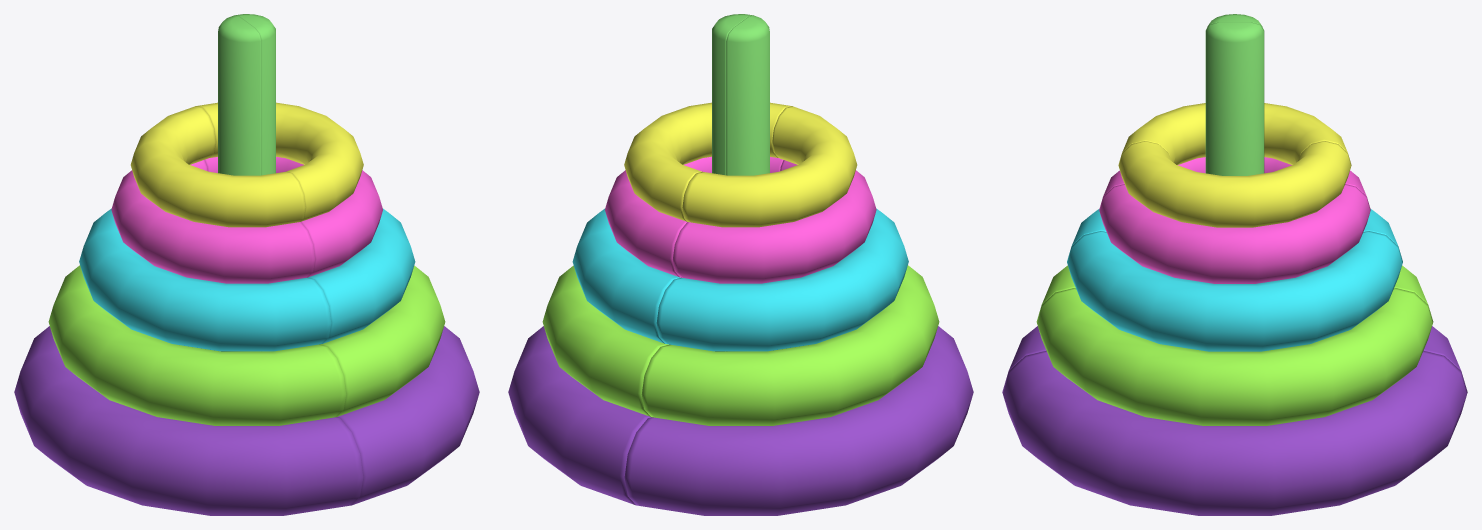
The model's file is SM_Toy_01a.fbx.
3 renders of one model, left to right at view 1: azimuth 30°, elevation 25°; view 2: azimuth 150°, elevation 25°; view 3: azimuth 270°, elevation 25°, orthographic.
Visible parts, largest first — view 1: Toy_01, Toy_02; view 2: Toy_01, Toy_02; view 3: Toy_02, Toy_01.
Boxes of the visible parts, x1,y1,x2,y2 form: Toy_01: (14, 15, 363, 515); Toy_02: (196, 14, 479, 505); Toy_01: (624, 15, 973, 515); Toy_02: (508, 14, 791, 505); Toy_02: (1002, 22, 1467, 515); Toy_01: (1008, 14, 1461, 370).
Size of the model in its own units: 25.81 by 25.67 by 26.21.
